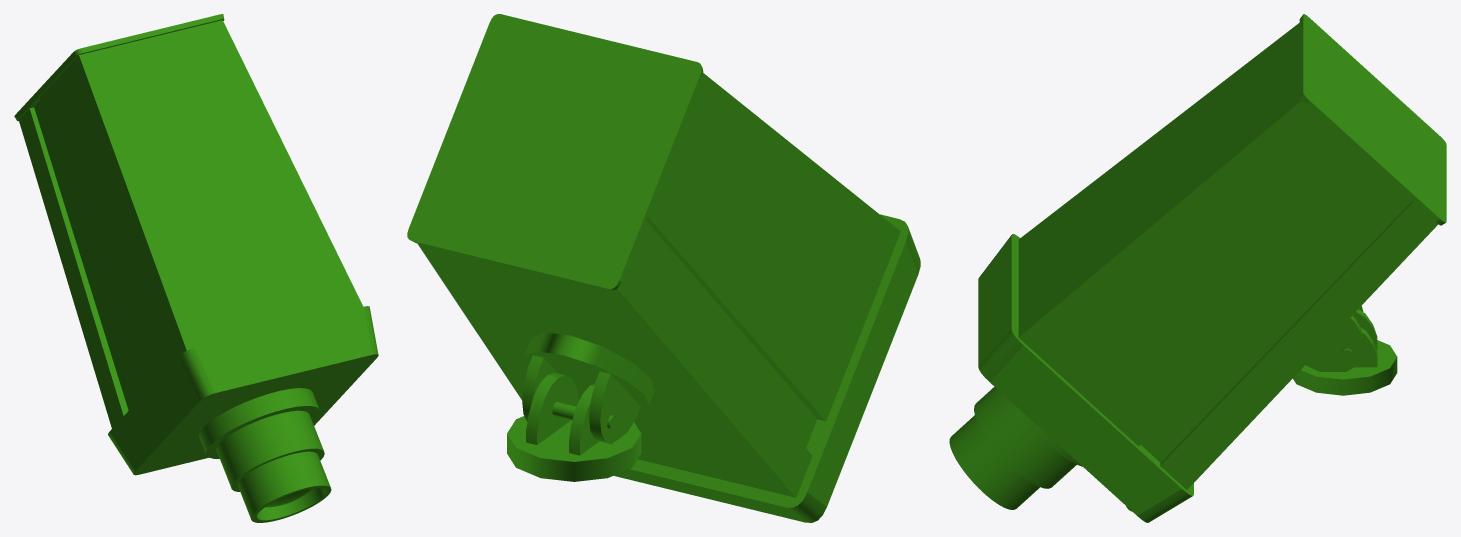
Rendered from Camera.fbx.
3 views of the same model, side by side, from view 1: azimuth 30°, elevation 25°; view 2: azimuth 150°, elevation 25°; view 3: azimuth 270°, elevation 25° (orthographic). The views are drawn at different scales.
Parts seen in each view (by area): view 1: NormalCamera_LowPoly; view 2: NormalCamera_LowPoly; view 3: NormalCamera_LowPoly.
Part boxes in pixels (<box>): NormalCamera_LowPoly: <box>14,14,378,522</box>; NormalCamera_LowPoly: <box>407,14,920,522</box>; NormalCamera_LowPoly: <box>949,14,1446,522</box>.
Bounding box in the file's own units: 7.33 × 14.75 × 14.75.
